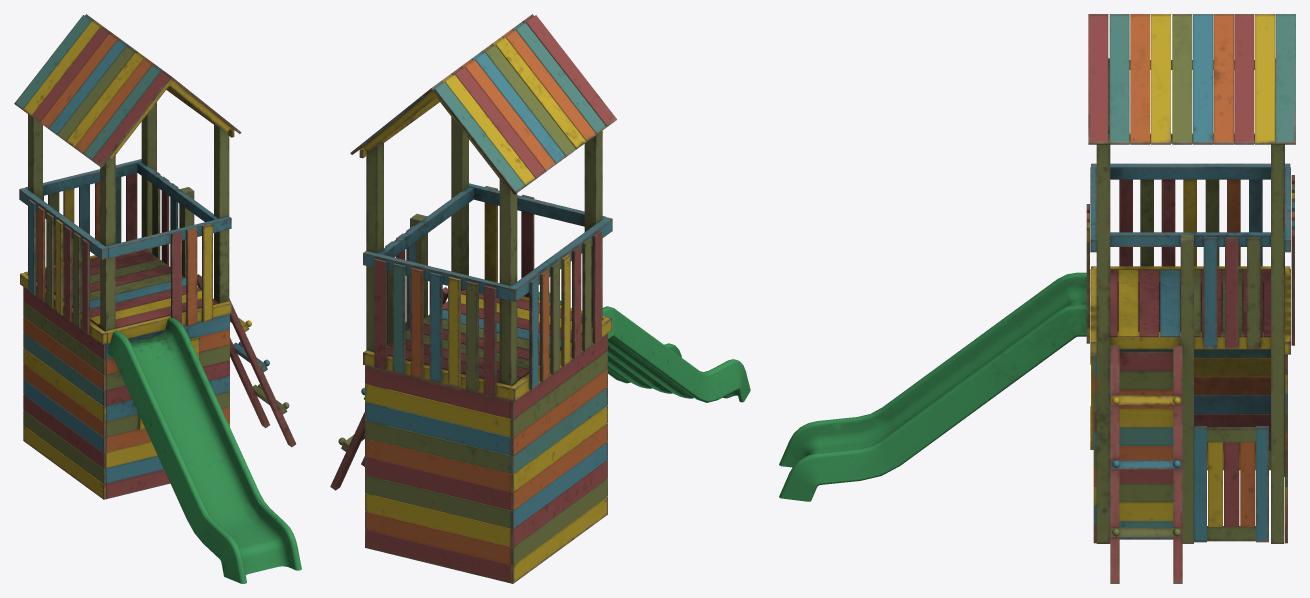
The model's file is Slide 3.fbx.
3 views of the same model, side by side, from view 1: azimuth 30°, elevation 25°; view 2: azimuth 150°, elevation 25°; view 3: azimuth 270°, elevation 25° (orthographic). The views are drawn at different scales.
Visible parts, largest first — view 1: Slide_3; view 2: Slide_3; view 3: Slide_3.
Part boxes in pixels (x1=…): Slide_3: x1=14, y1=14, x2=301, y2=583; Slide_3: x1=330, y1=14, x2=750, y2=583; Slide_3: x1=779, y1=14, x2=1295, y2=583.
Bounding box in the file's own units: 187 × 355 × 338.
1 material, 1 textured.
